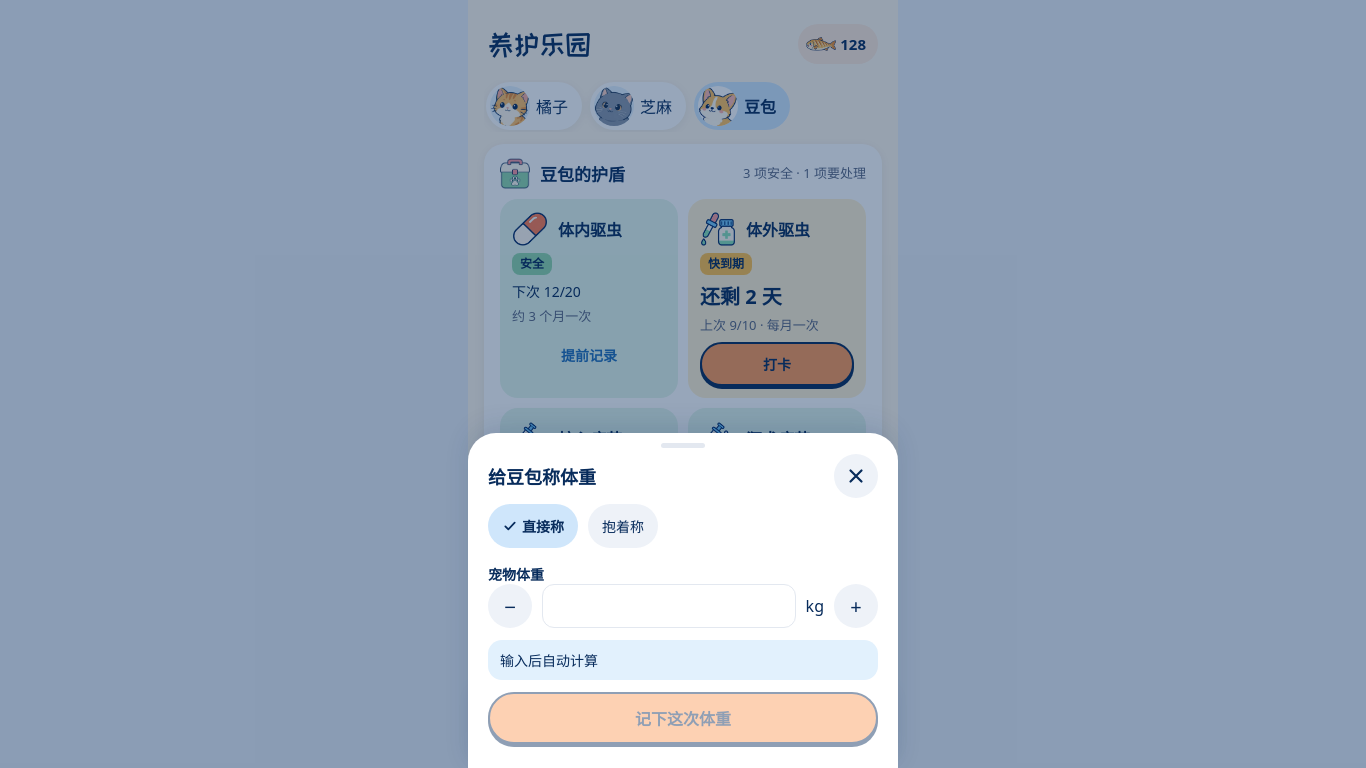
Scenario: 养护 › 称重小游戏：抱着称自动相减并写入
The image size is (1366, 768).
Click the button "抱着称" at [623, 526], box [588,504,658,548]
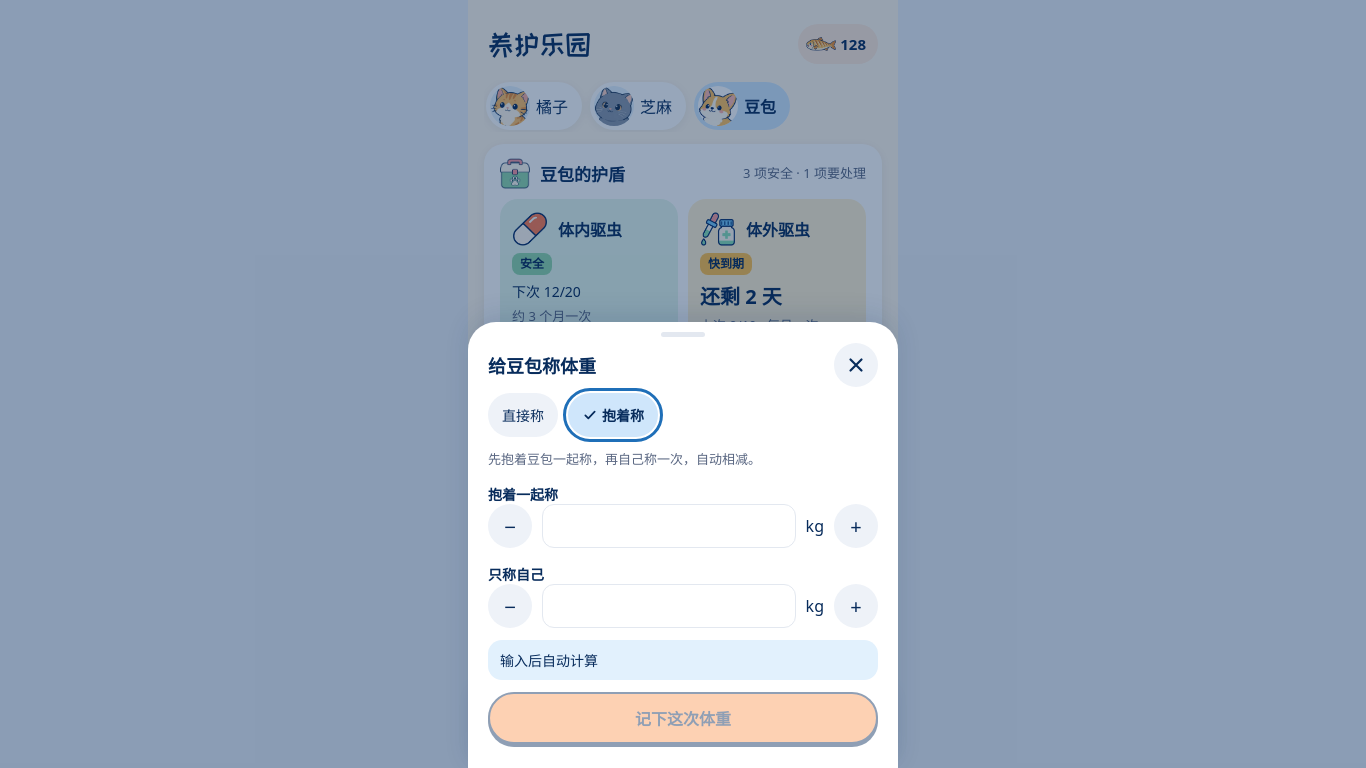
Type "66.3" into the number field named "抱着一起称" at [669, 526], box [542,504,796,548]
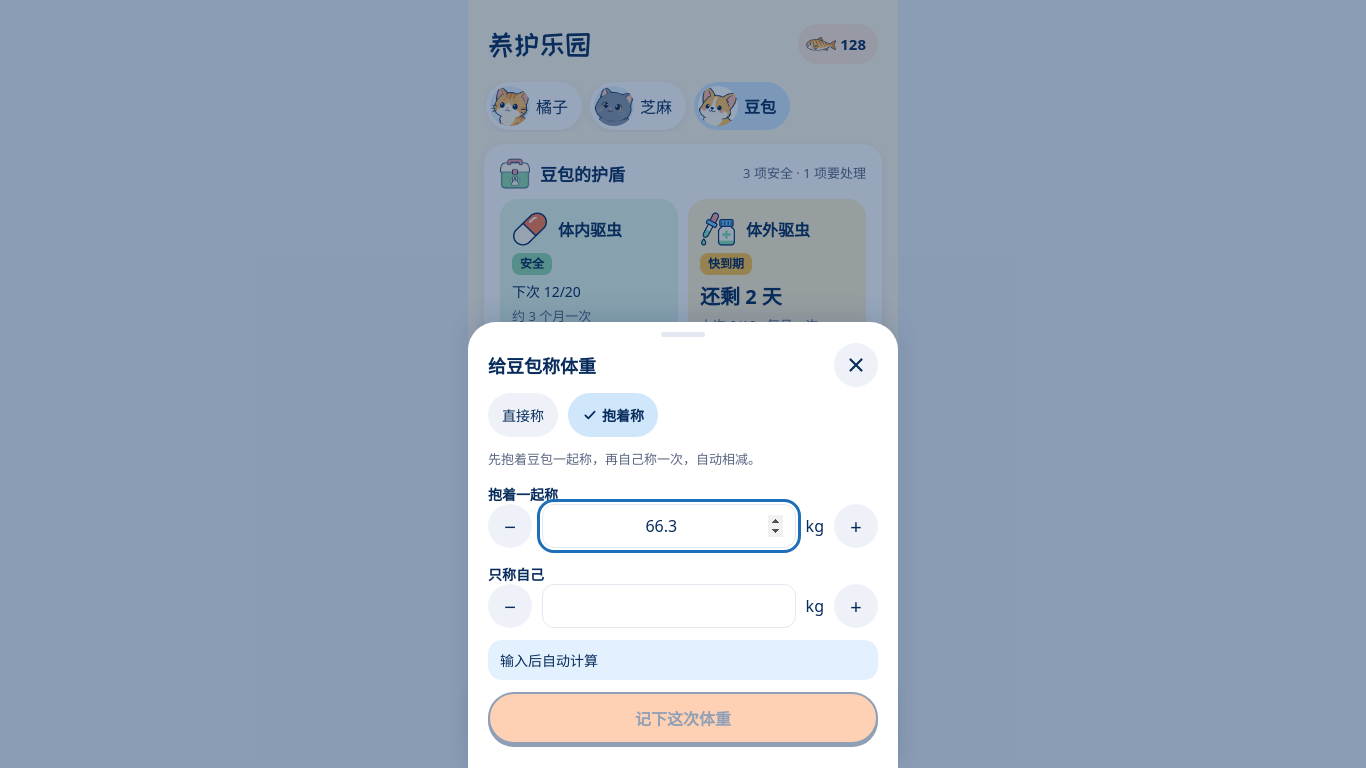
Type "54.5" into the number field named "只称自己" at [669, 606], box [542,584,796,628]
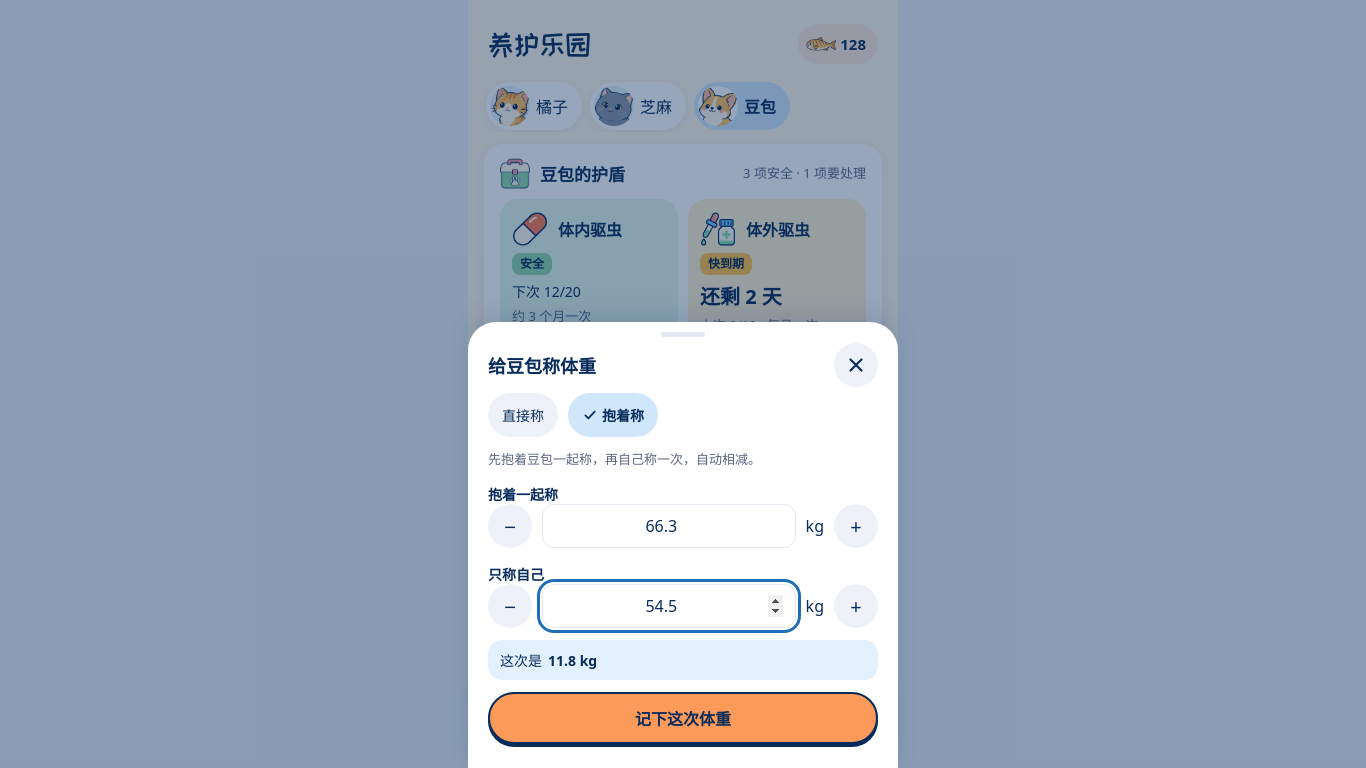
Check: the text "11.8 kg" is shown, box [548,650,597,670]
Click the button "记下这次体重" at [683, 718], box [488,692,878,744]
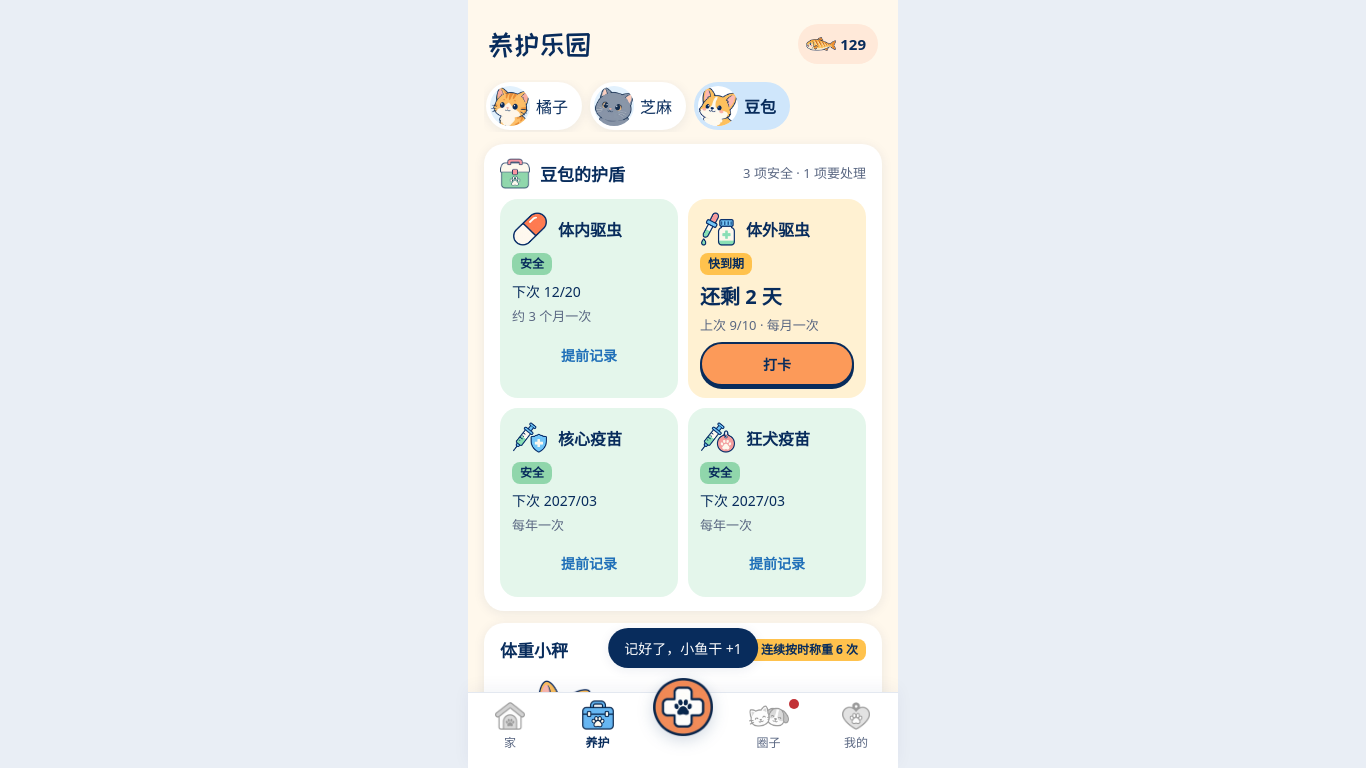
Check: the message shows "记好了", box [624,639,742,658]
